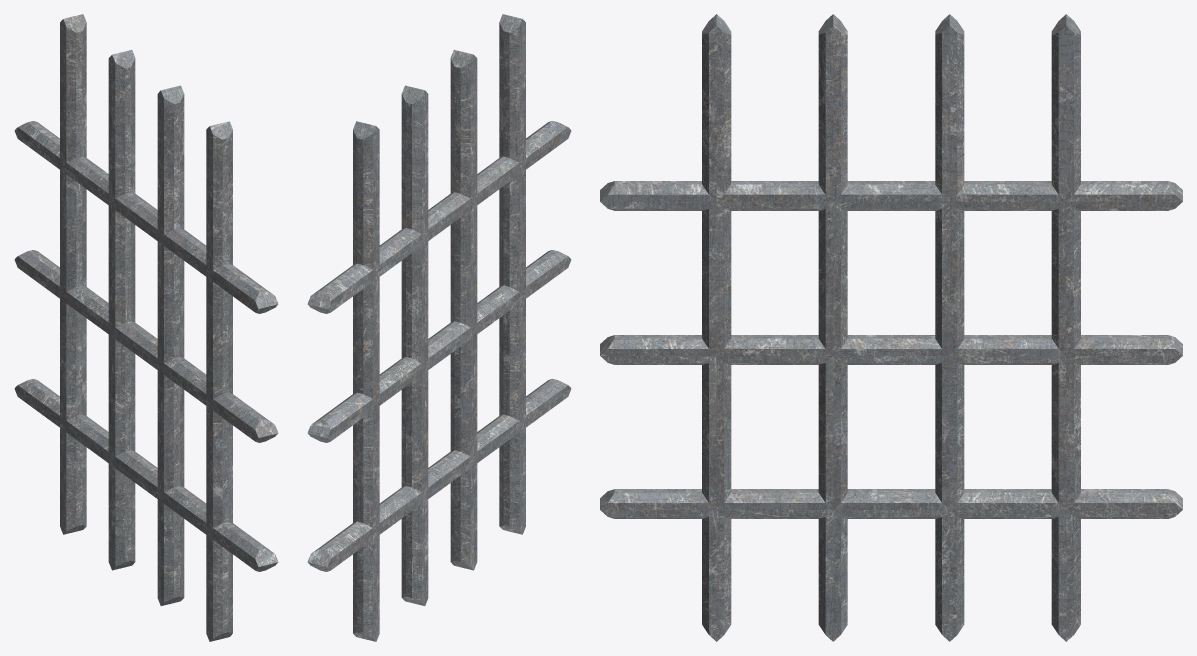
The model's file is gate_001.FBX.
3 renders of one model, left to right at view 1: azimuth 30°, elevation 25°; view 2: azimuth 150°, elevation 25°; view 3: azimuth 270°, elevation 25°, orthographic. The views are drawn at different scales.
Parts seen in each view (by area): view 1: gate_001; view 2: gate_001; view 3: gate_001.
Boxes of the visible parts, x1,y1,x2,y2 form: gate_001: (14, 14, 278, 641); gate_001: (307, 14, 571, 641); gate_001: (600, 14, 1182, 641).
Size of the model in its own units: 2.85 by 70 by 60.
Materials: 1 (1 with a texture image).
